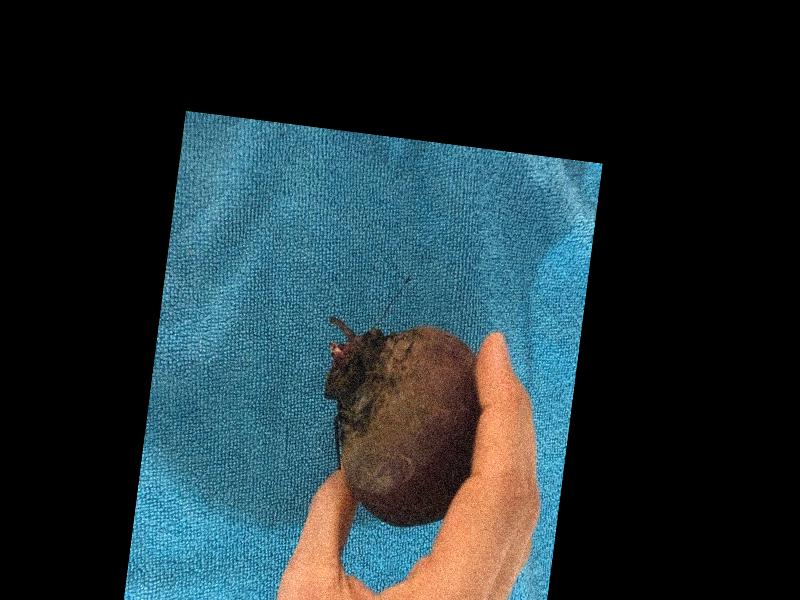Beet: (305, 314, 488, 532)
